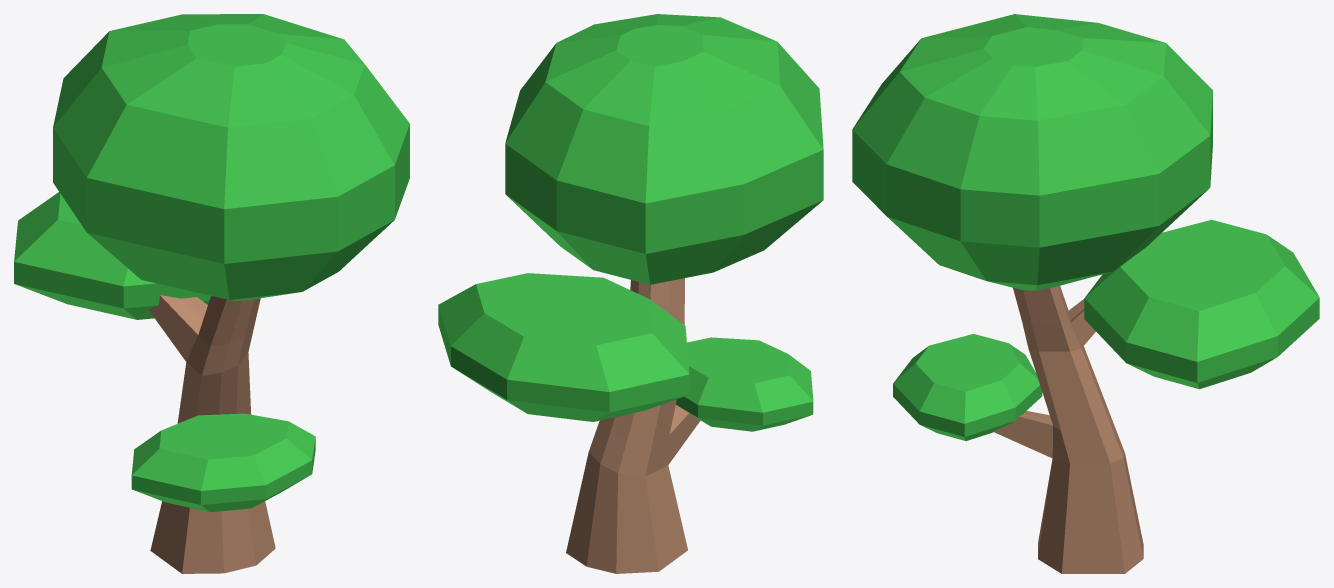
The model's file is TreeApple.fbx.
3 renders of one model, left to right at view 1: azimuth 30°, elevation 25°; view 2: azimuth 150°, elevation 25°; view 3: azimuth 270°, elevation 25°, orthographic. The views are drawn at different scales.
Visible parts, largest first — view 1: Plane, Cube, Plane.002, Plane.001; view 2: Plane, Plane.001, Cube, Plane.002; view 3: Plane, Plane.001, Cube, Plane.002.
Part boxes in pixels (bbox=[...]): Plane: bbox=[53, 14, 409, 301]; Cube: bbox=[148, 295, 275, 573]; Plane.002: bbox=[131, 413, 315, 512]; Plane.001: bbox=[14, 192, 210, 319]; Plane: bbox=[505, 14, 823, 284]; Plane.001: bbox=[438, 273, 689, 421]; Cube: bbox=[566, 278, 700, 573]; Plane.002: bbox=[676, 337, 813, 431]; Plane: bbox=[852, 14, 1212, 290]; Plane.001: bbox=[1084, 219, 1319, 389]; Cube: bbox=[993, 285, 1143, 573]; Plane.002: bbox=[893, 334, 1042, 440].
Bounding box in the file's own units: 658 × 1047 × 885.
